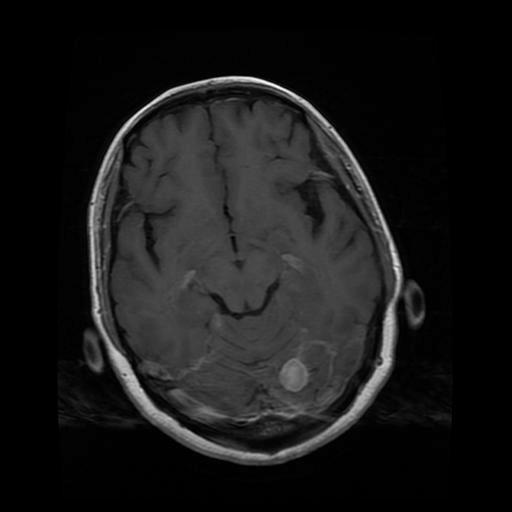Tumour-Meningioma: (255, 360, 318, 394)
